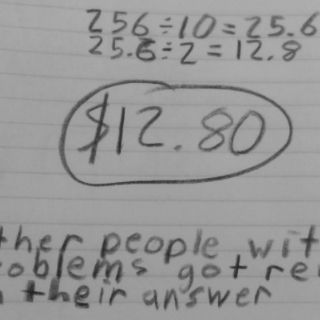.: (172, 139, 184, 156), (286, 29, 296, 38)
0: (227, 107, 268, 156)
1: (116, 102, 126, 155)
2: (136, 102, 167, 151), (85, 6, 105, 34), (247, 36, 266, 61)
5: (110, 8, 128, 34)
6: (130, 10, 153, 38)
8: (197, 104, 229, 152)
